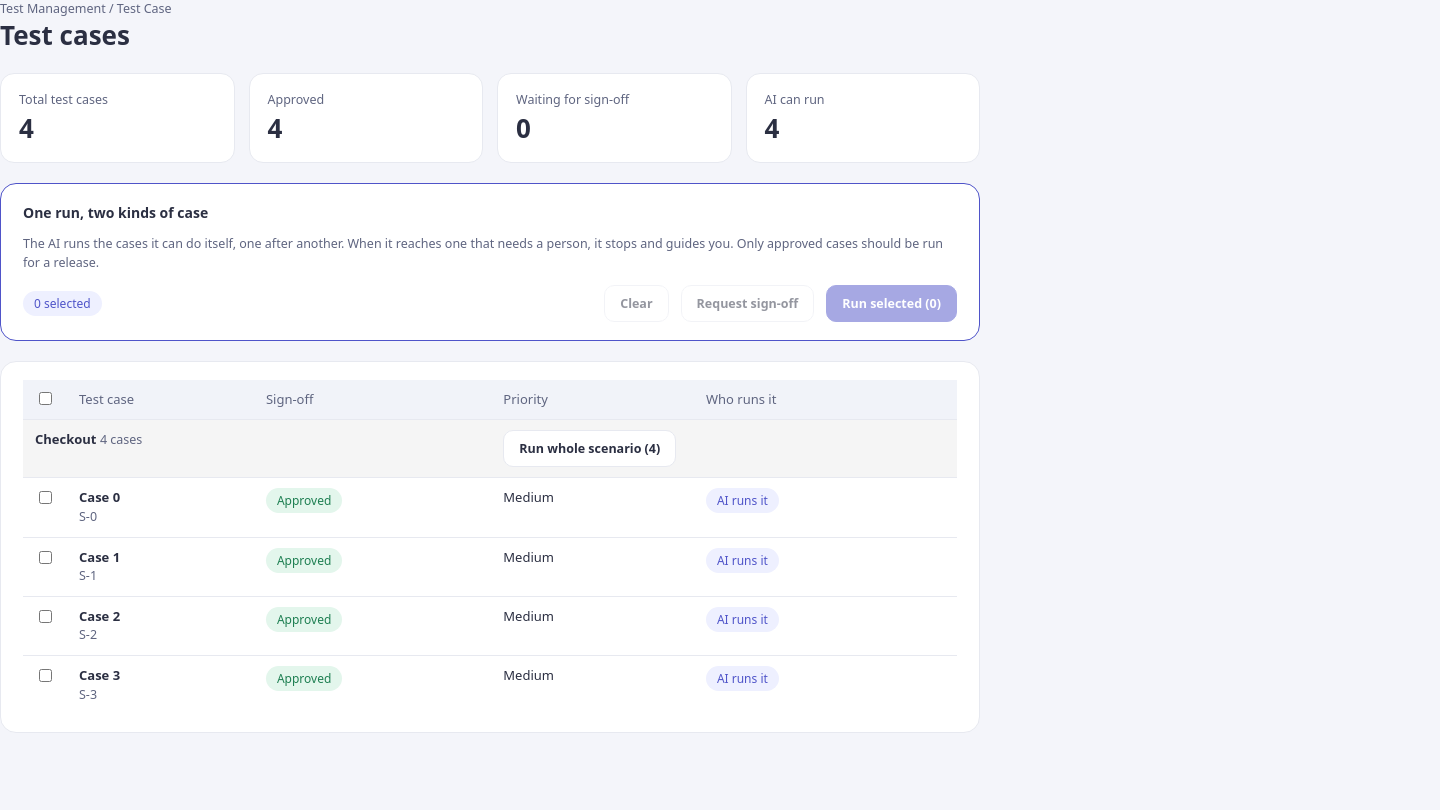
Test: scenario runs › warns before running part of a scenario, and runs all of it from the scenario button
Expected: the text "Case 0" is shown, x1=79 y1=488 x2=120 y2=506
Click the checkbox named "Select S-0": point(46, 498) x1=39 y1=491 x2=52 y2=504
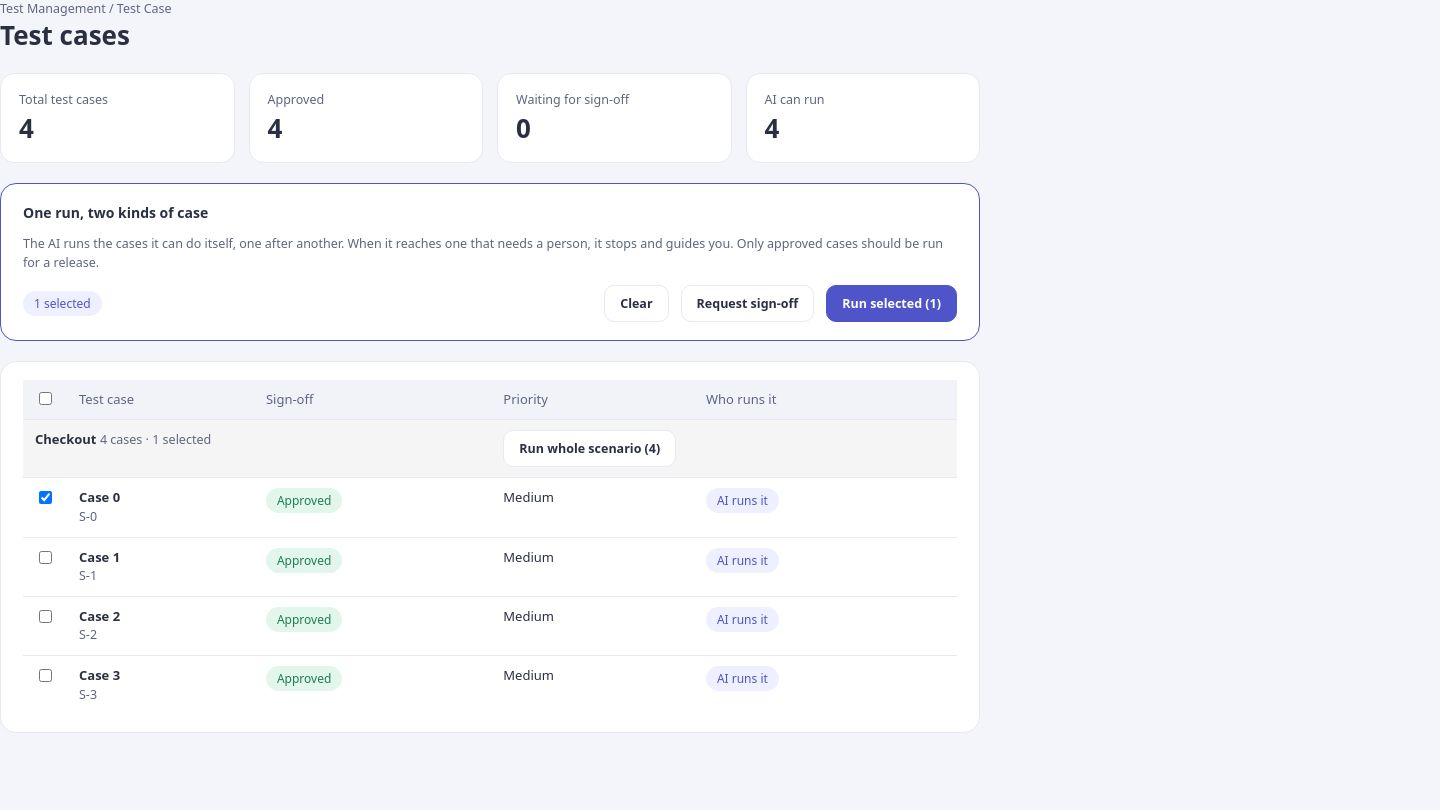
Click the checkbox named "Select S-1": point(46, 557) x1=39 y1=550 x2=52 y2=564
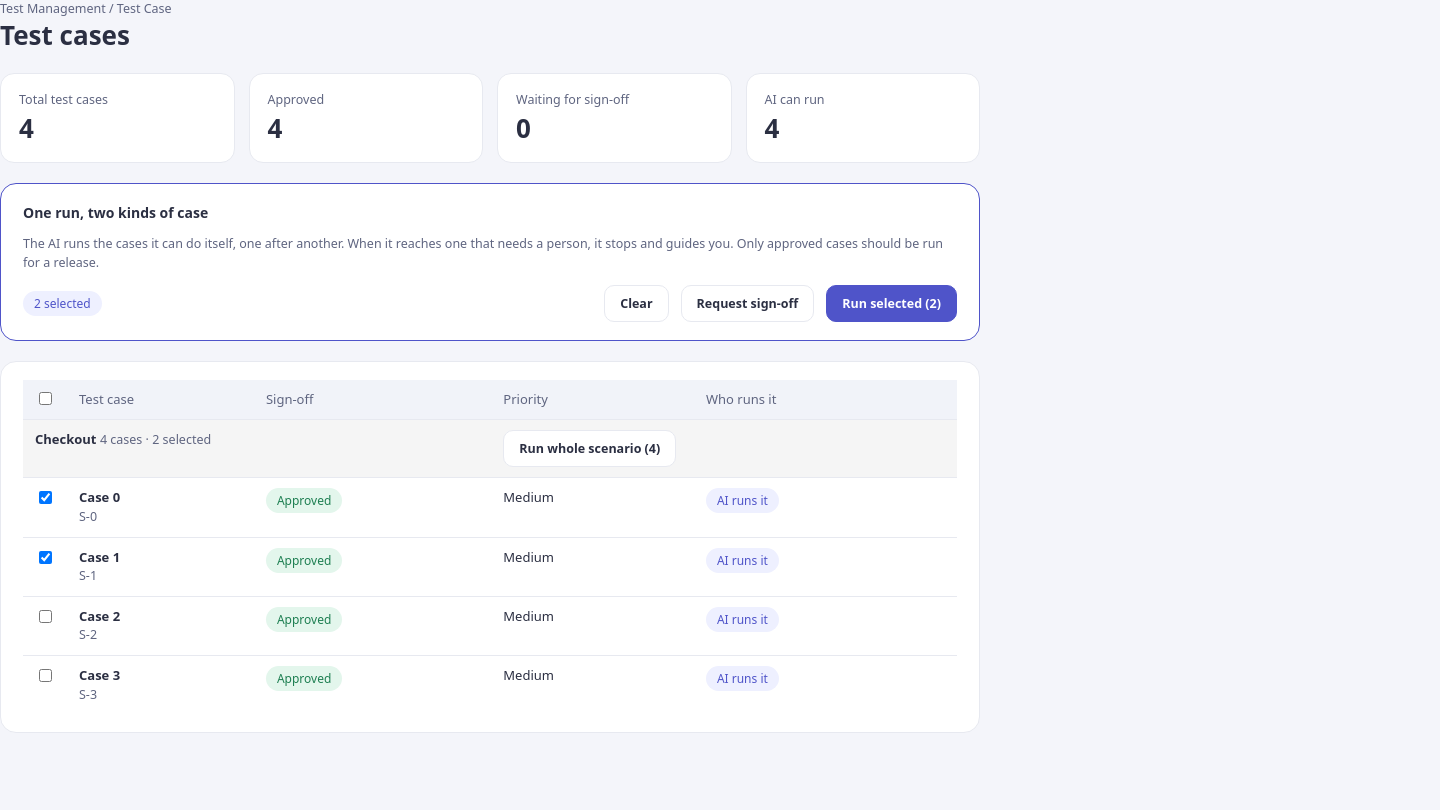
Click the button "Run selected (2)": point(892, 303) x1=826 y1=285 x2=957 y2=322
(page scrolled)
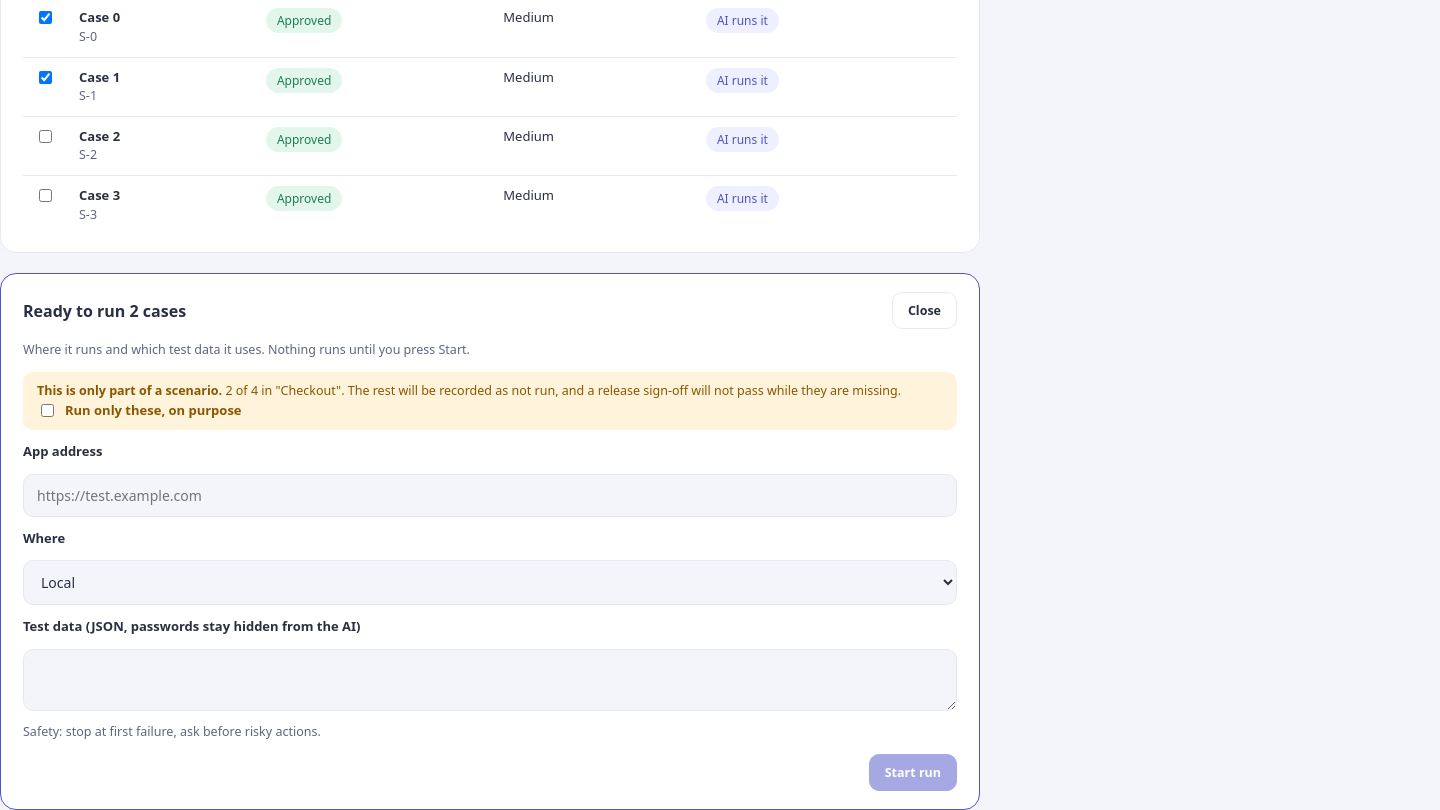
Result: the message shows "2 of 4" at x1=225 y1=382 x2=341 y2=399
Result: the button "Start run" is disabled at x1=869 y1=754 x2=957 y2=790
Click the checkbox labelled "Run only these, on purpose": point(48, 410) x1=41 y1=404 x2=54 y2=417
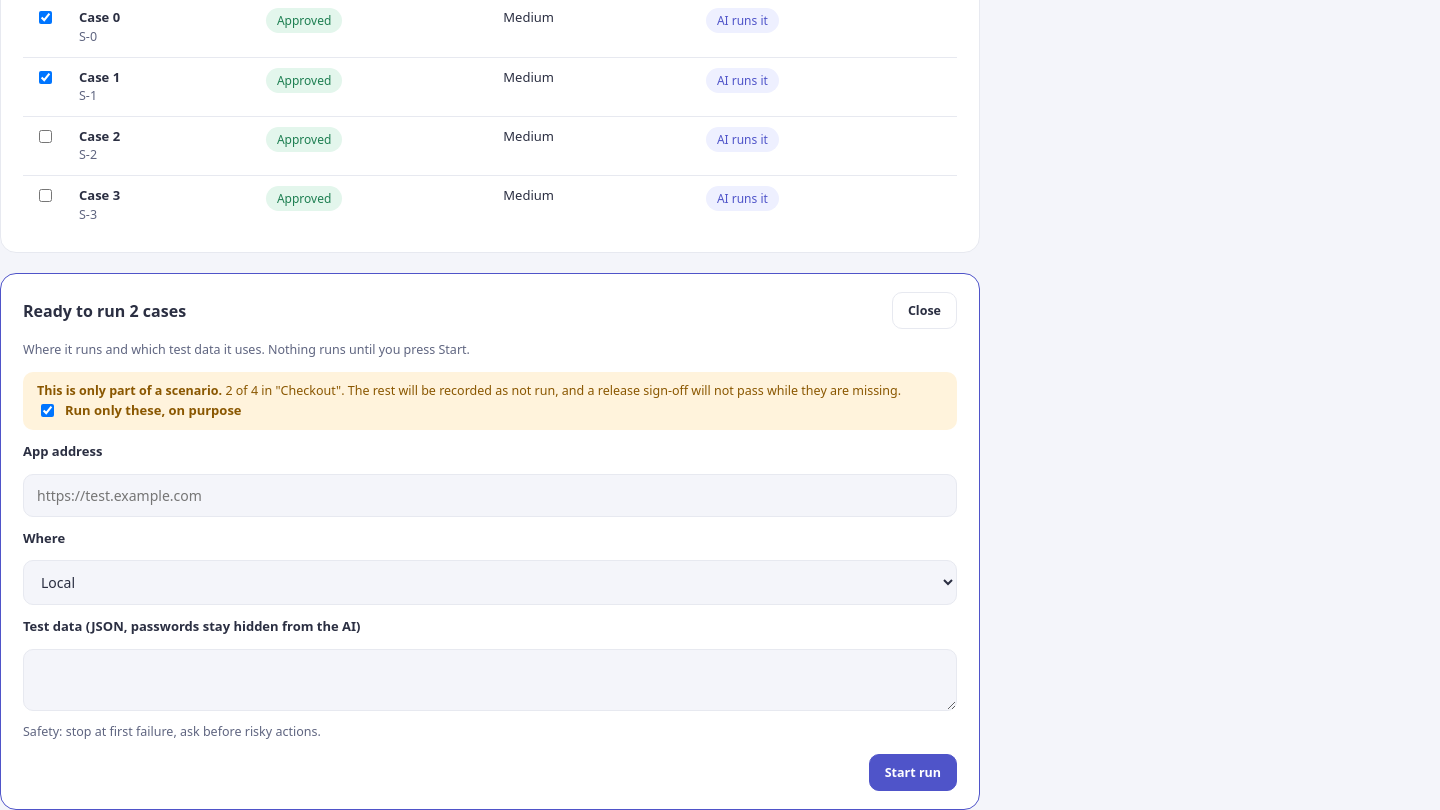
Result: the button "Start run" is enabled at x1=869 y1=754 x2=957 y2=790
